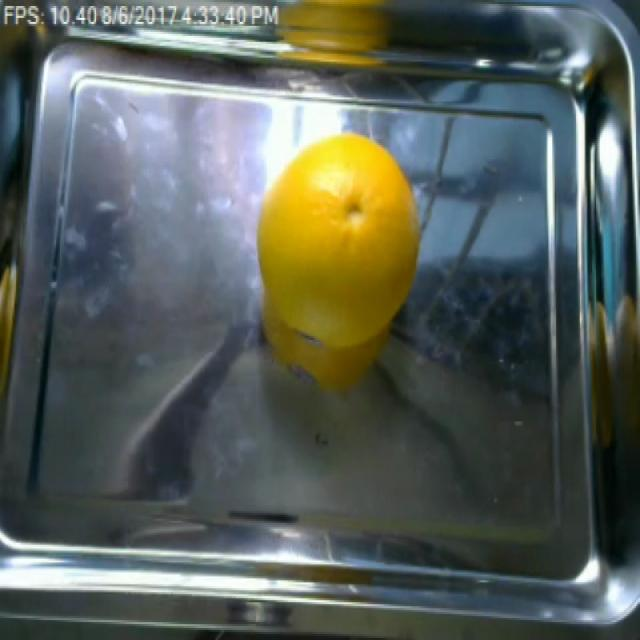Fruit: (251, 123, 425, 388), (261, 0, 409, 83)
